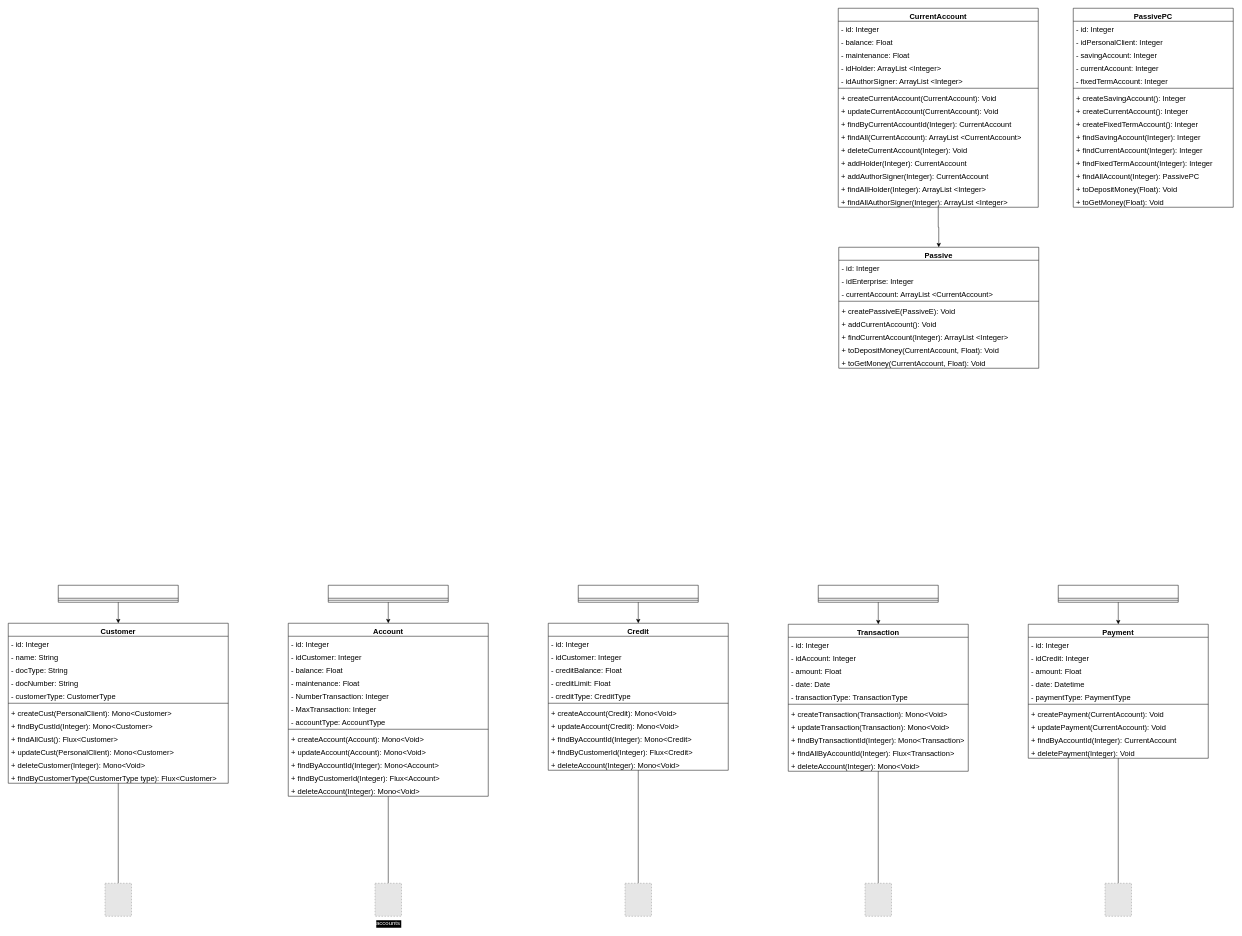
Some shapes in this 1242 by 936 pixel diagram are drawn without their labels. Grey dashed boxes stand in for pictures. The centre of each missing label's shape, as x and y in pixels:
"AccountType" goes at (388,593).
"CreditType" goes at (638,593).
"CustomerType" goes at (118,593).
"PaymentType" goes at (1118,593).
"TransactionType" goes at (878,593).
